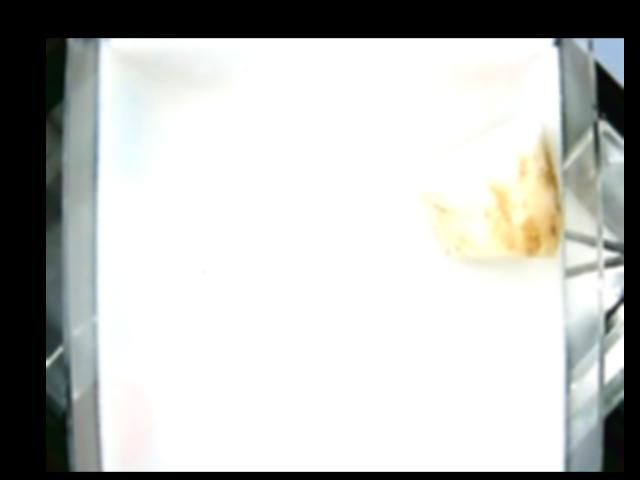Mooli: (413, 114, 561, 259)
